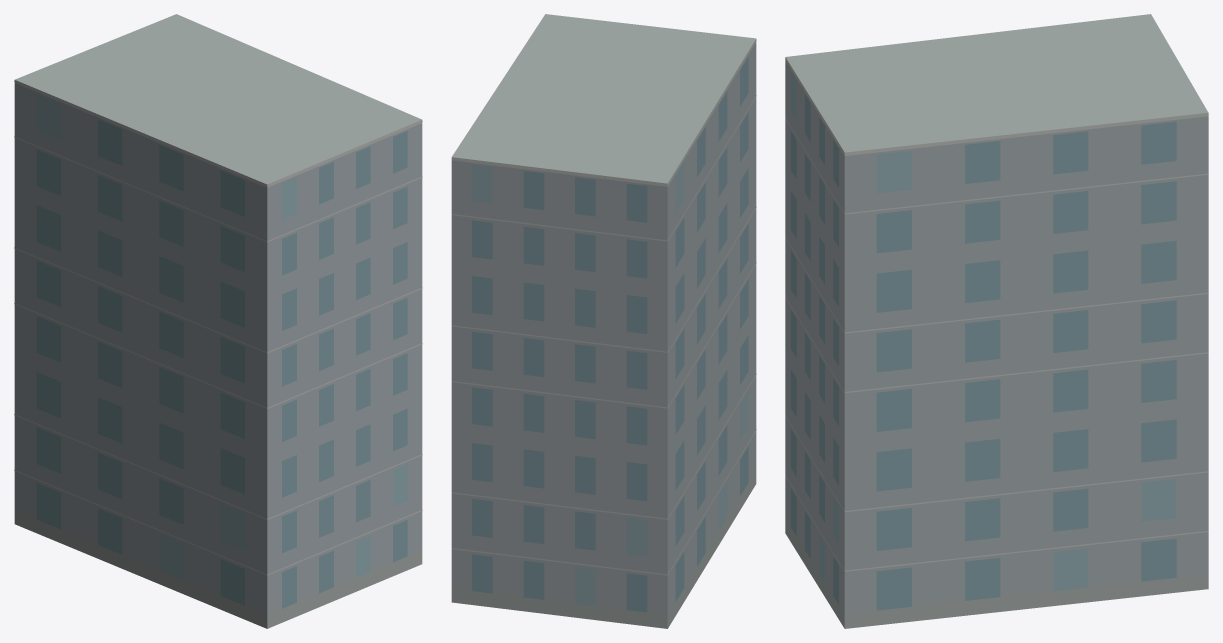
Rendered from survey-upis-32749673.glb.
3 views of the same model, side by side, from view 1: azimuth 30°, elevation 25°; view 2: azimuth 150°, elevation 25°; view 3: azimuth 270°, elevation 25° (orthographic). The views are drawn at different scales.
Parts seen in each view (by area): view 1: survey-upis-32749673.tmp; view 2: survey-upis-32749673.tmp; view 3: survey-upis-32749673.tmp.
Part boxes in pixels (x1=…): survey-upis-32749673.tmp: x1=14, y1=14, x2=422, y2=628; survey-upis-32749673.tmp: x1=451, y1=14, x2=756, y2=628; survey-upis-32749673.tmp: x1=785, y1=14, x2=1208, y2=628.
Size of the model in its own units: 20.43 by 32.7 by 26.35.
